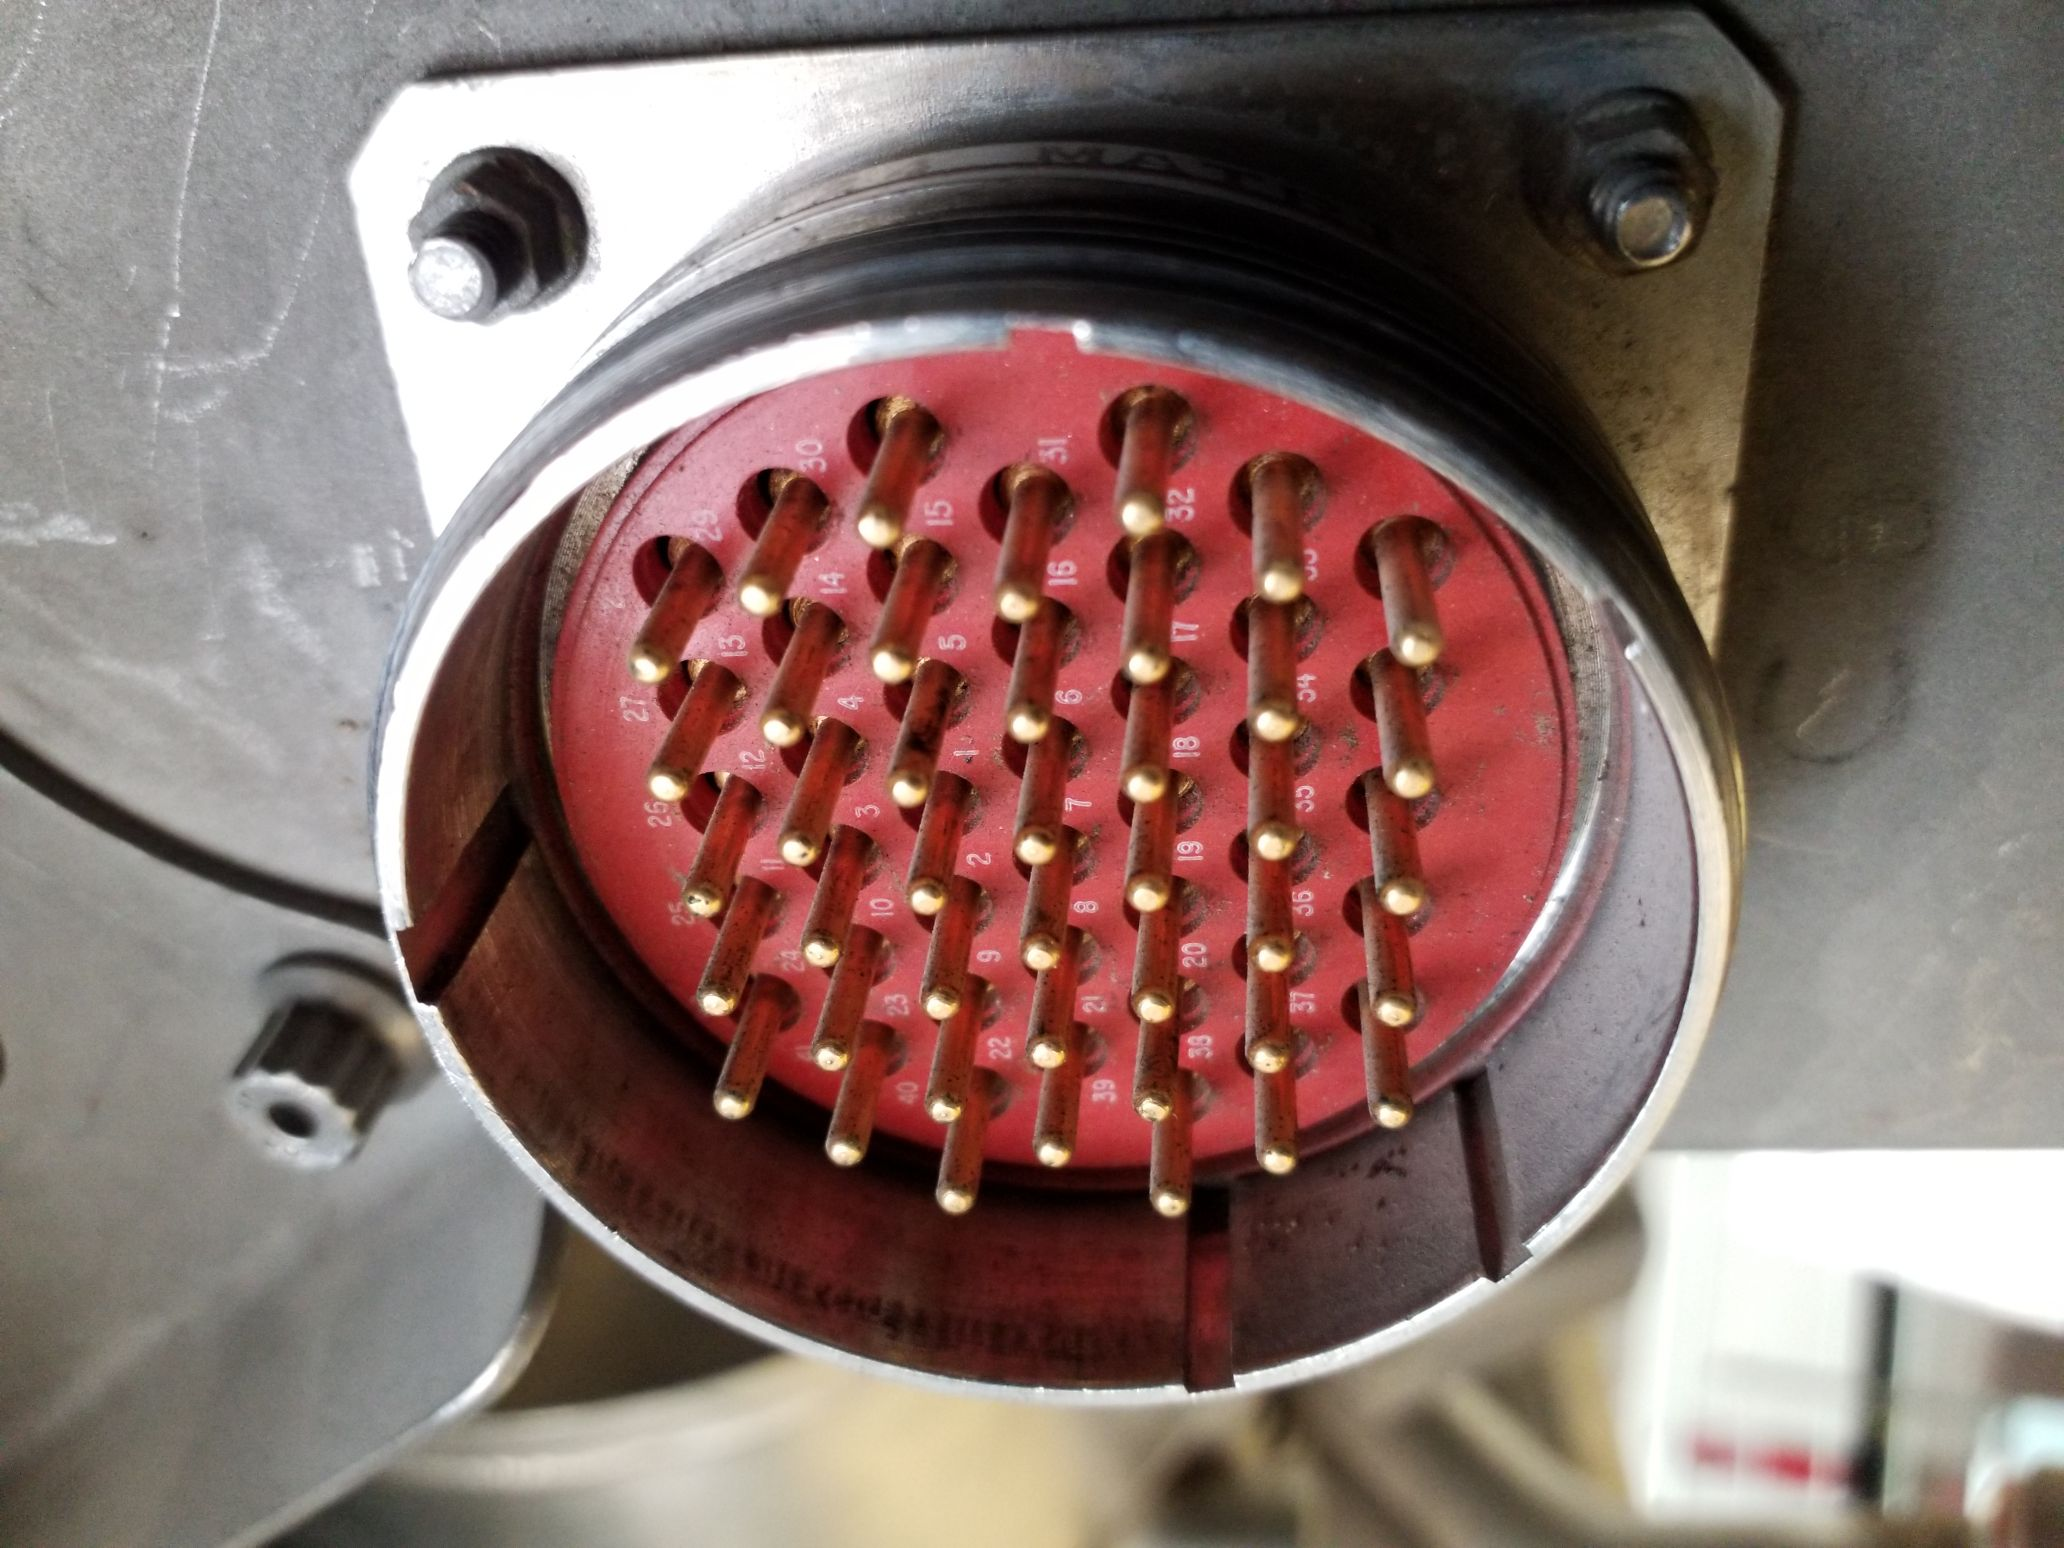outlet: (319, 270, 1724, 1411)
